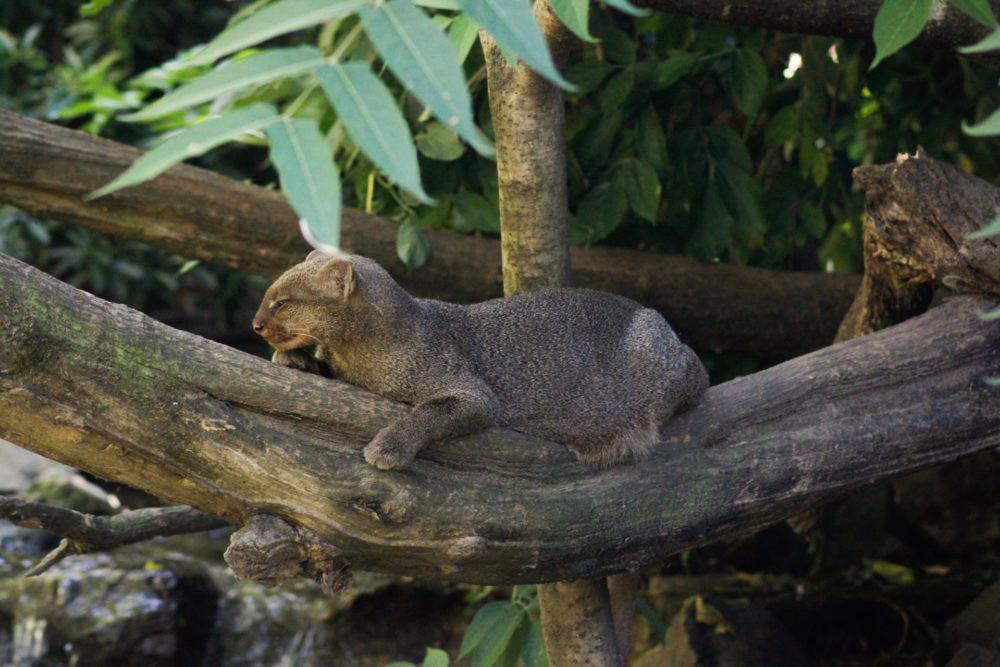Jaguarundi: (246, 239, 728, 484)
